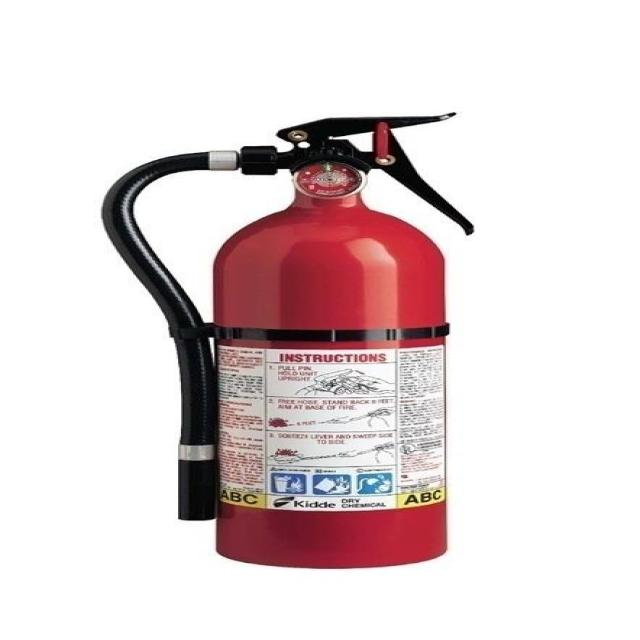fire_extinguisher: (92, 107, 484, 570)
